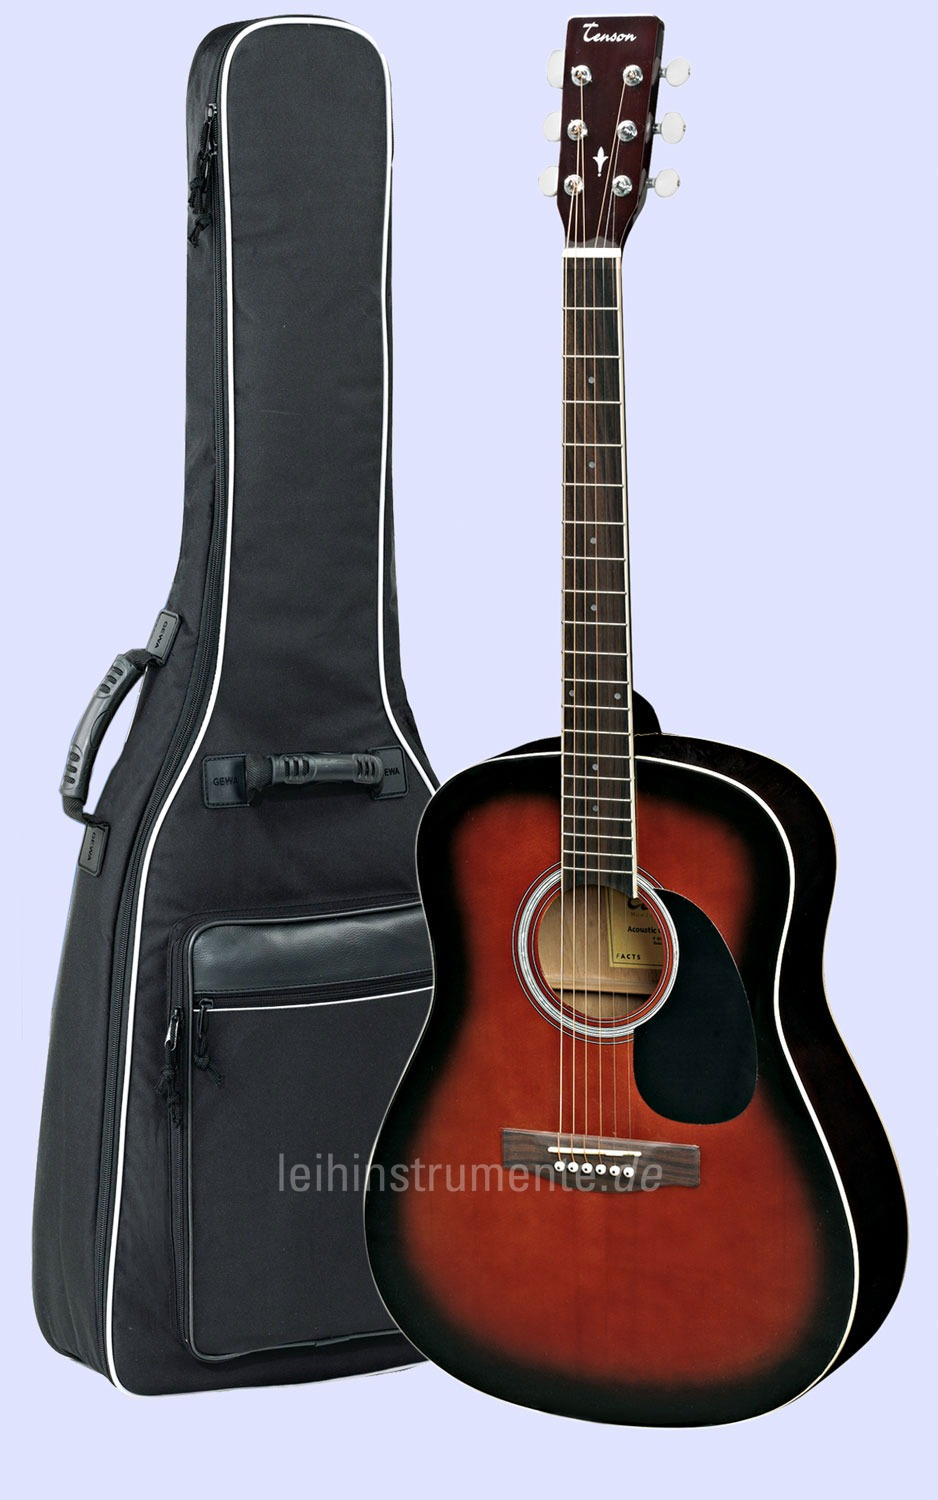guitar: (365, 10, 916, 1436)
